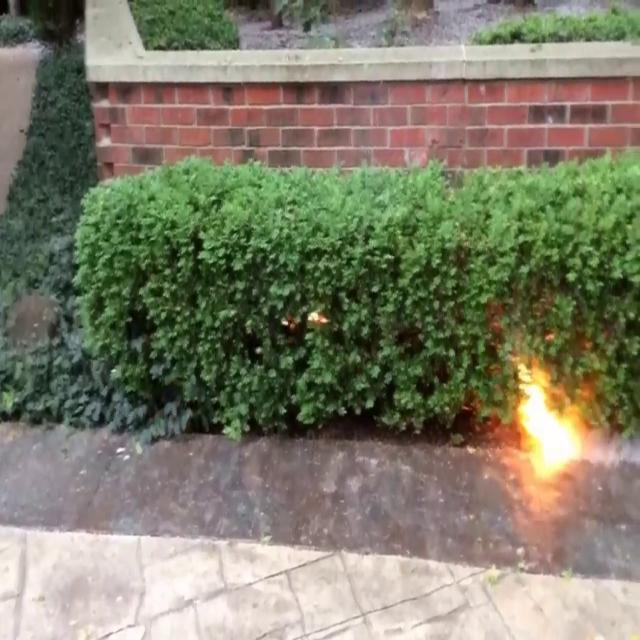Fire: (510, 361, 584, 484)
